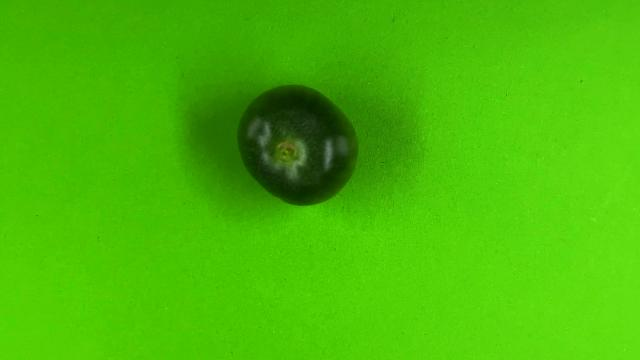Fruit Maturation: (235, 83, 362, 208)
